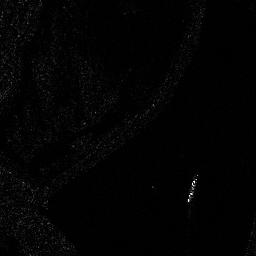ship: (185, 173, 200, 203)
